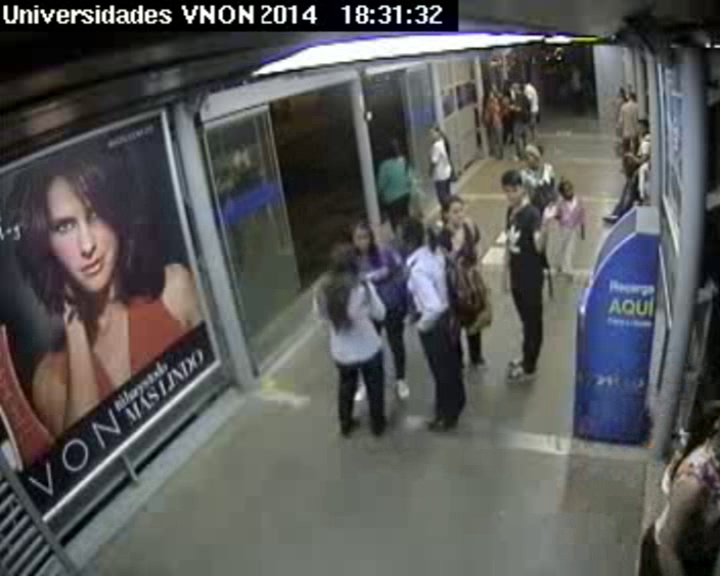person: (390, 214, 426, 257), (329, 240, 362, 277), (347, 218, 378, 253), (438, 195, 467, 228), (499, 170, 527, 203), (523, 142, 547, 167), (383, 135, 404, 157), (558, 179, 578, 198), (427, 121, 443, 140), (634, 118, 650, 136), (484, 80, 496, 93), (617, 87, 627, 98), (503, 80, 513, 91), (627, 92, 636, 103), (512, 82, 520, 92), (520, 78, 528, 87)
